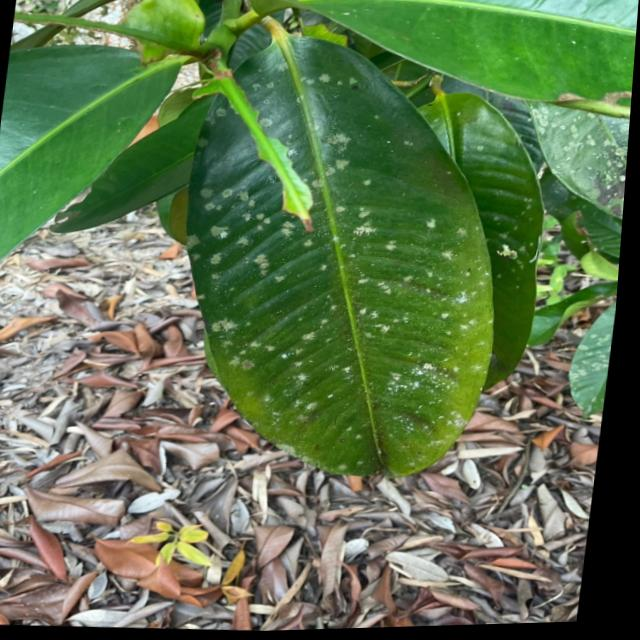Leaf Spot: (174, 56, 529, 478)
